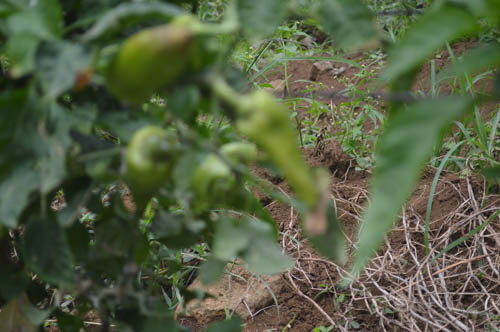ChiliPepper: (244, 98, 322, 198), (111, 23, 181, 94), (127, 128, 176, 205)
